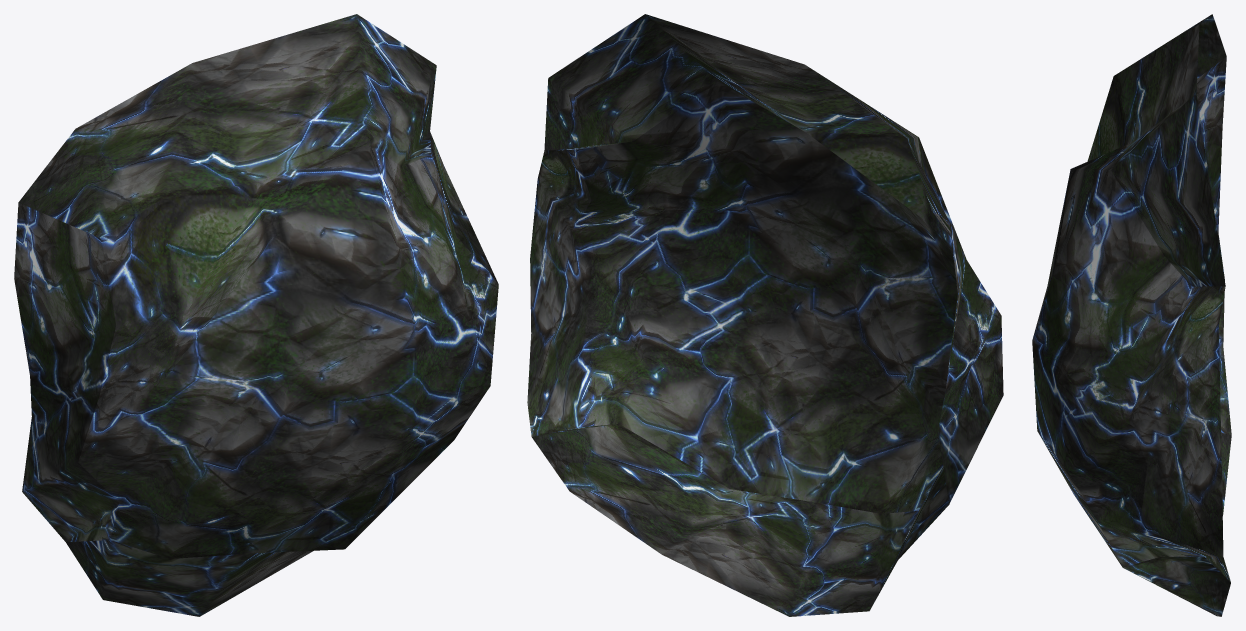
The model's file is boulder_2_moss.FBX.
3 views of the same model, side by side, from view 1: azimuth 30°, elevation 25°; view 2: azimuth 150°, elevation 25°; view 3: azimuth 270°, elevation 25° (orthographic).
Visible parts, largest first — view 1: Box001; view 2: Box001; view 3: Box001.
Boxes of the visible parts, x1,y1,x2,y2 form: Box001: (14,14,498,616); Box001: (527,14,1003,616); Box001: (1032,14,1231,616).
Bounding box in the file's own units: 694 × 273 × 863.
